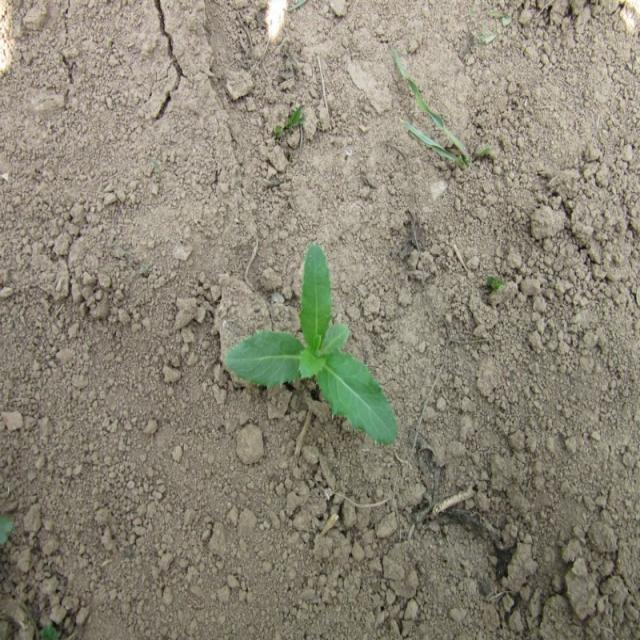cs: (219, 235, 403, 453)
